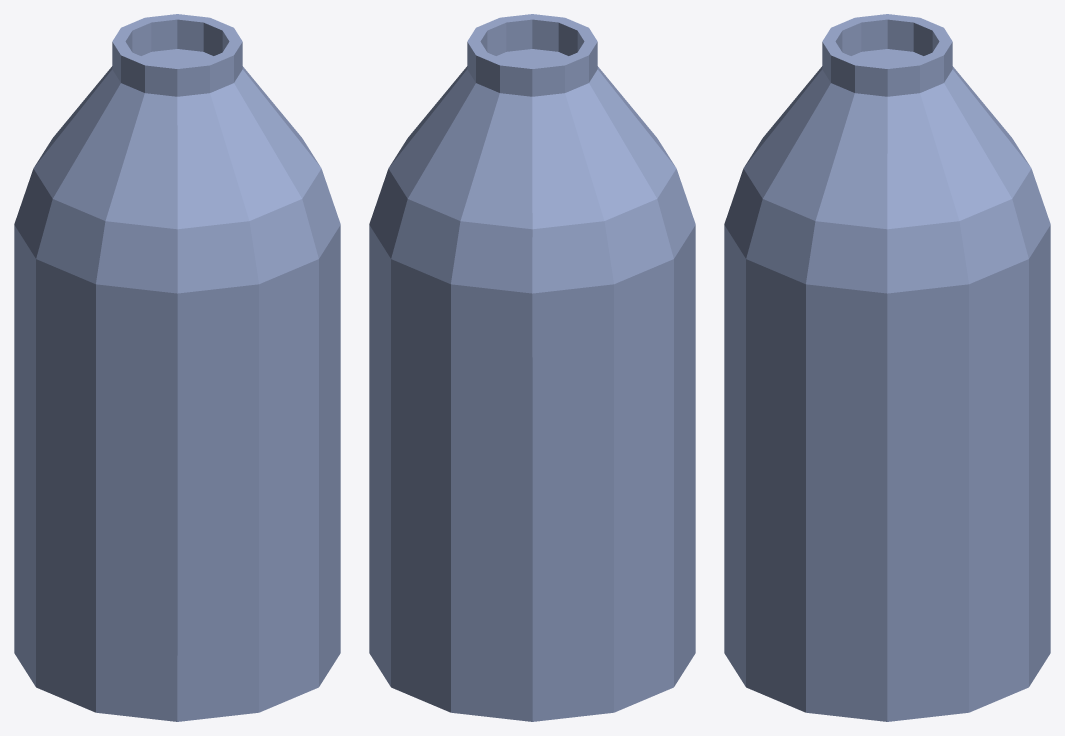
The model's file is bottle3.fbx.
The picture shows the model from 3 angles, left to right: view 1: azimuth 30°, elevation 25°; view 2: azimuth 150°, elevation 25°; view 3: azimuth 270°, elevation 25°; orthographic projection.
Parts seen in each view (by area): view 1: bottle3; view 2: bottle3; view 3: bottle3.
Boxes of the visible parts, x1,y1,x2,y2 form: bottle3: (14, 14, 340, 721); bottle3: (369, 14, 695, 721); bottle3: (724, 14, 1050, 721).
Size of the model in its own units: 18.8 by 38.83 by 18.8.
